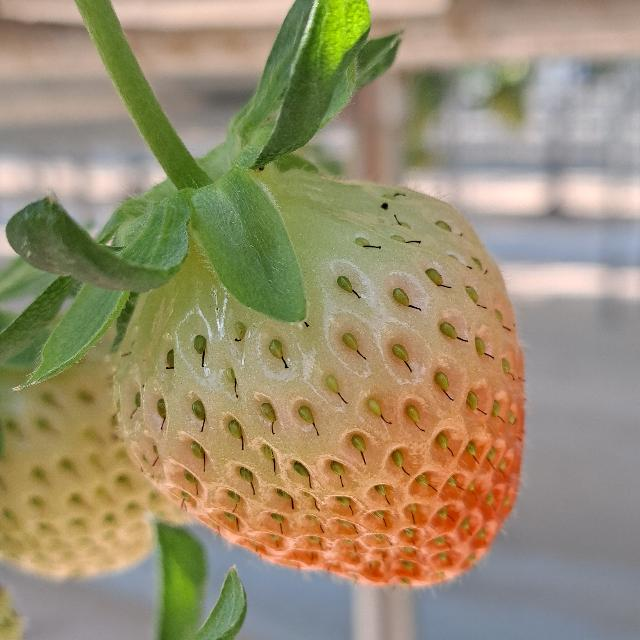Health_75: (112, 168, 524, 586)
